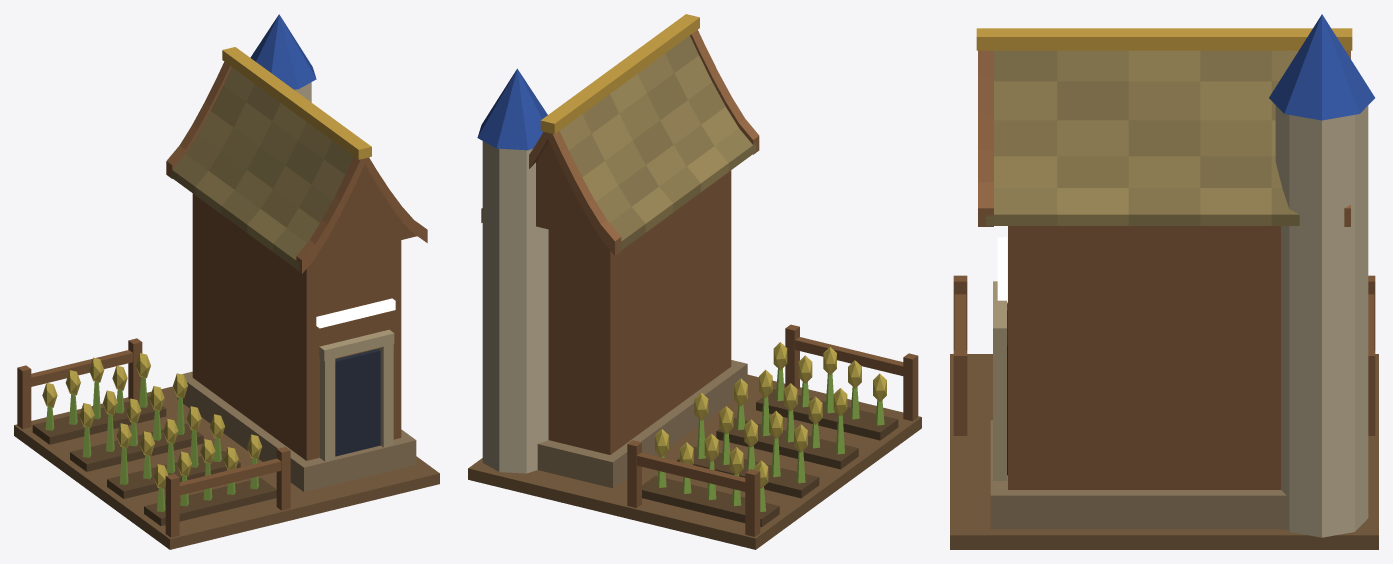
The model's file is farm_t3.glb.
3 renders of one model, left to right at view 1: azimuth 30°, elevation 25°; view 2: azimuth 150°, elevation 25°; view 3: azimuth 270°, elevation 25°, orthographic. The views are drawn at different scales.
Parts seen in each view (by area): view 1: body, glow; view 2: body; view 3: body, glow.
Part boxes in pixels (bbox=[...]): body: bbox=[14, 14, 439, 549]; glow: bbox=[316, 298, 395, 328]; body: bbox=[468, 14, 921, 549]; body: bbox=[950, 14, 1378, 549]; glow: bbox=[997, 237, 1006, 300].
Bounding box in the file's own units: 1.91 × 2.47 × 1.85.
